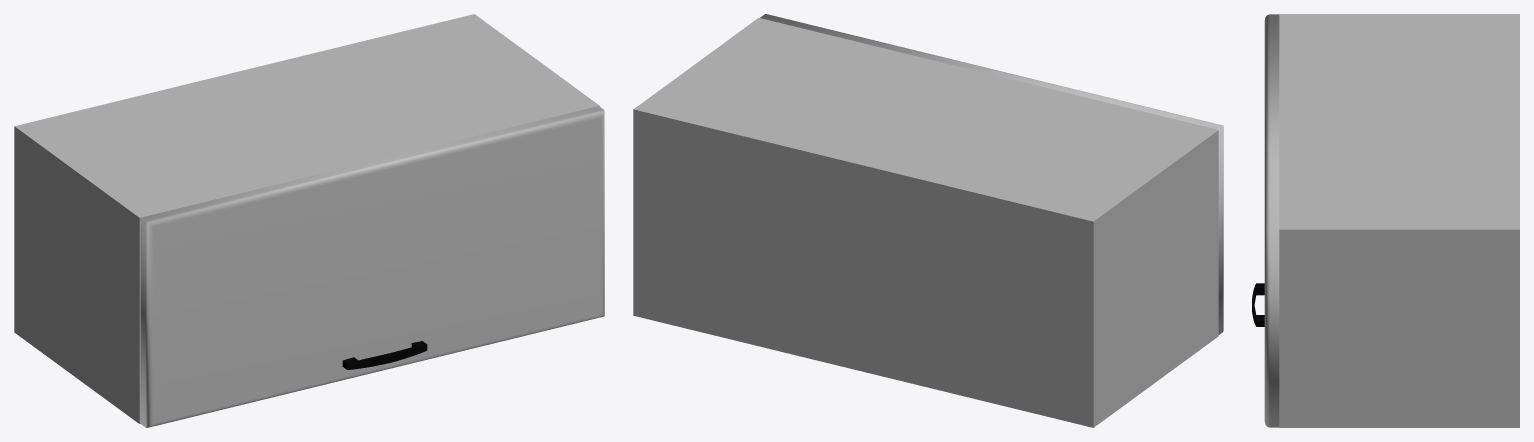
3 views of the same model, side by side, from view 1: azimuth 30°, elevation 25°; view 2: azimuth 150°, elevation 25°; view 3: azimuth 270°, elevation 25° (orthographic). The views are drawn at different scales.
Parts seen in each view (by area): view 1: Box037, Box015, Obj3d66-503491-2-358; view 2: Box015, Box037; view 3: Box015, Box037, Obj3d66-503491-2-358.
Boxes of the visible parts, box(x1,y1,x2,y2) form: Box037: box(140, 106, 604, 427); Box015: box(14, 14, 599, 423); Obj3d66-503491-2-358: box(342, 341, 427, 369); Box015: box(633, 18, 1218, 427); Box037: box(760, 14, 1223, 334); Box015: box(1279, 14, 1519, 427); Box037: box(1264, 14, 1279, 427); Obj3d66-503491-2-358: box(1252, 283, 1264, 326).
Size of the model in its own units: 0.7 by 0.3 by 0.3675.
Materials: 2 (1 with a texture image).
